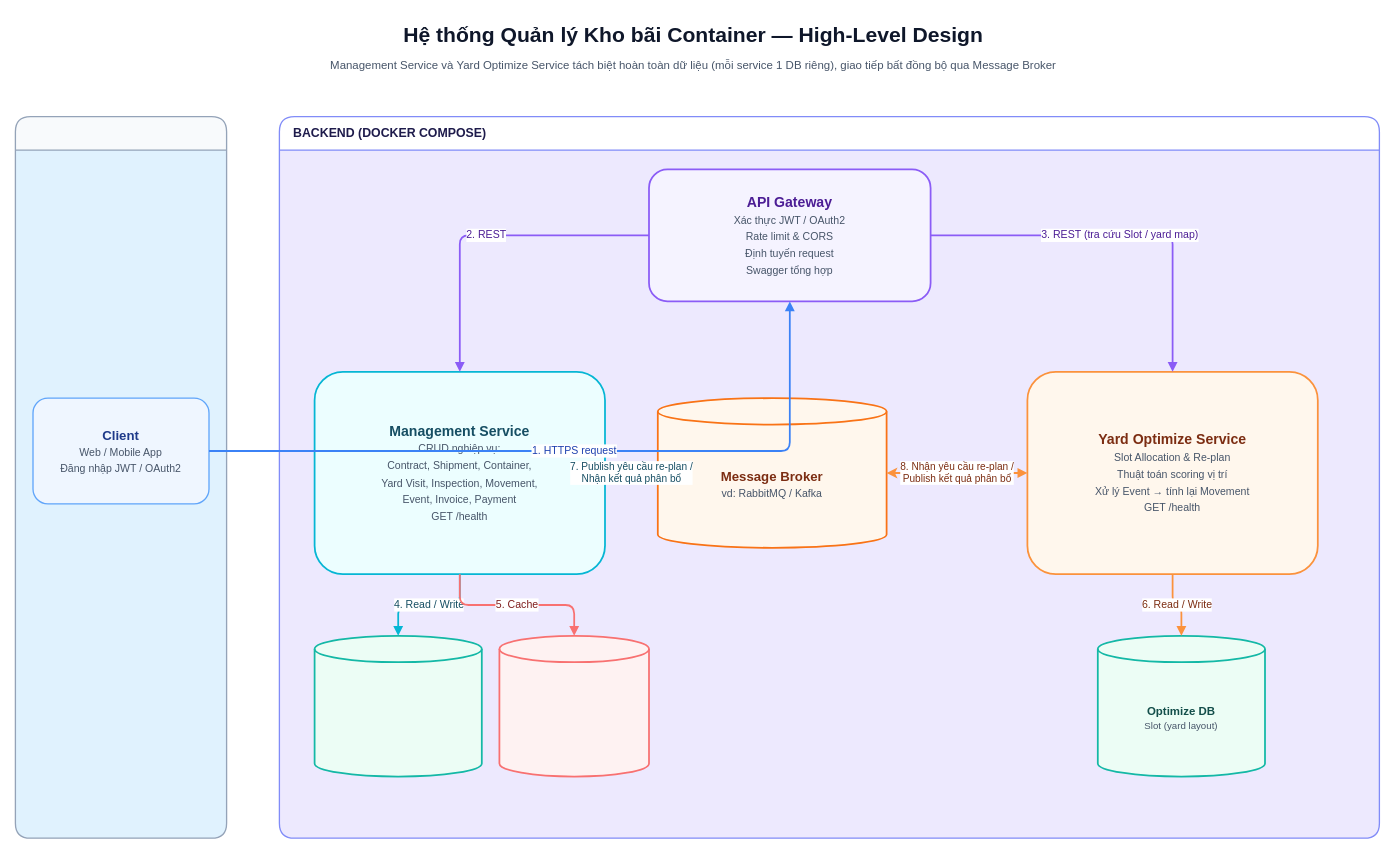
Some shapes in this 1396 by 854 pixel diagram are drawn without their labels. The shapes that lost their labels are listed below. From the top down, each one's box as (x1, y1, x2, y2) in pixels, then its label:
(14, 116, 227, 838): EXTERNAL CLIENTS
(313, 634, 482, 777): Management DB Contract, Shipment, YardVisit, Invoice...
(498, 634, 649, 777): Redis Cache Slot trống, tra cứu container
